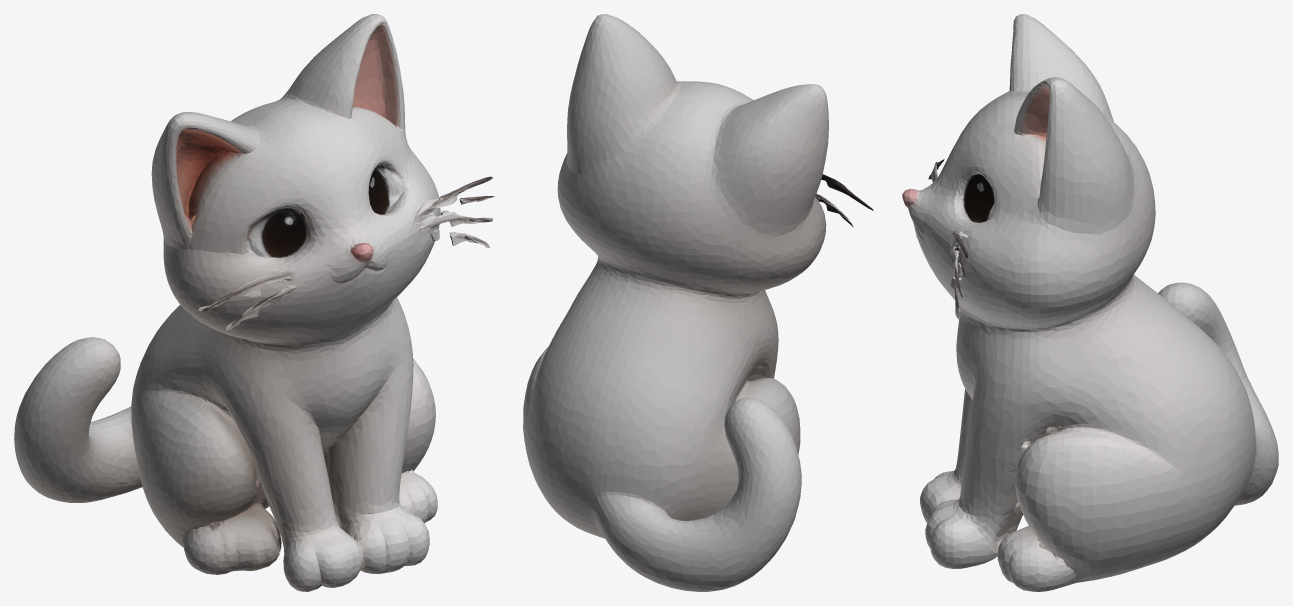
File: cat-3.glb
The picture shows the model from 3 angles, left to right: view 1: azimuth 30°, elevation 25°; view 2: azimuth 150°, elevation 25°; view 3: azimuth 270°, elevation 25°; orthographic projection. The views are drawn at different scales.
Visible parts, largest first — view 1: world; view 2: world; view 3: world.
Part boxes in pixels (box(x1,y1,x2,y2)): world: box(14, 14, 494, 591); world: box(523, 14, 873, 591); world: box(902, 14, 1278, 591).
Bounding box in the file's own units: 0.7352 × 1 × 0.6886.
Materials: 1 (1 with a texture image).
